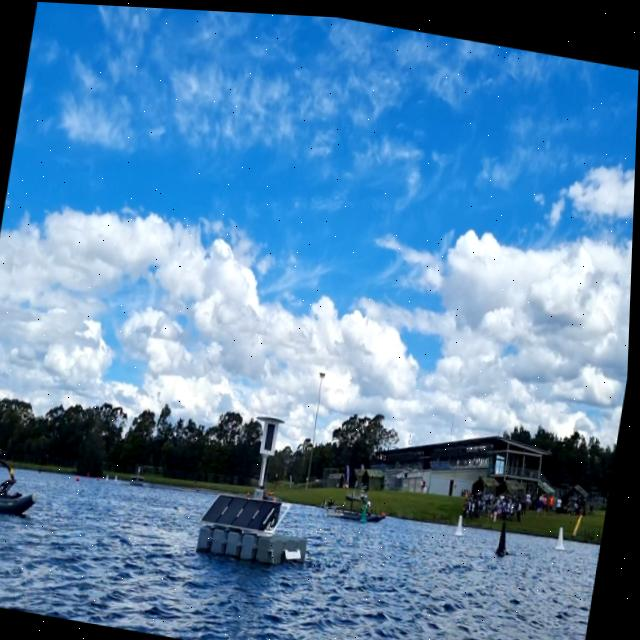led: (264, 417, 281, 450)
